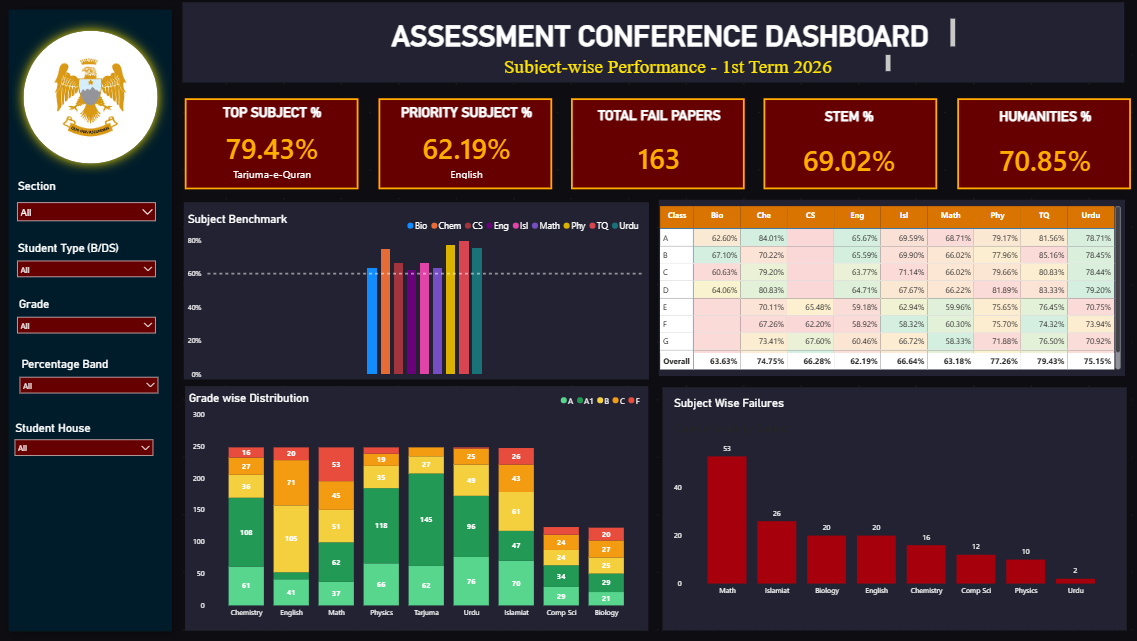

The dashboard page shown, as its layout file describes it:
{"tool":"powerbi","page":{"name":"Subject wise Performance","canvas":[1920,1080],"ordinal":2},"visuals":[{"type":"shape","box":[1103.8,642.5,792.5,423.8],"z":0},{"type":"shape","box":[637.7,168.5,290,152],"z":1000},{"type":"shape","box":[959.8,169.5,290,152],"z":2000},{"type":"shape","box":[1281.9,168,290,152],"z":3000},{"type":"shape","box":[1604,169,290,152],"z":4000},{"type":"shape","box":[0,0,315,1080],"z":5000},{"type":"shape","box":[303.3,0,1590,151.7],"z":6000},{"type":"shape","box":[304.4,333.6,794.4,313.3],"z":7000},{"type":"shape","box":[26.9,37.7,261.5,259.2],"z":8000},{"type":"image","box":[82.5,91.7,149.2,150.8],"z":9000},{"type":"textbox","box":[620,31.2,986.2,60],"z":10000},{"type":"textbox","box":[754.2,91.7,745,41.7],"z":11000},{"type":"shape","box":[1098,330,796,312],"z":12000},{"type":"shape","box":[306.2,641.2,791.2,426.2],"z":13000},{"type":"shape","box":[315.6,170,290,152.2],"z":14000},{"type":"cardVisual","title":"TOP SUBJECT %","fields":{"Data":["Measures Table.Top Subject Average"]},"box":[316,180,292,142],"z":15000},{"type":"cardVisual","title":"PRIORITY SUBJECT %","fields":{"Data":["Measures Table.Priority Subject Average"]},"box":[638,180,294,142],"z":16000},{"type":"cardVisual","title":"TOTAL FAIL PAPERS","fields":{"Data":["Measures Table.Total Failed Papers"]},"box":[964,184,286,142],"z":17000},{"type":"cardVisual","title":"STEM %","fields":{"Data":["Measures Table.STEM Average"]},"box":[1282,186,286,142],"z":18000},{"type":"cardVisual","title":"HUMANITIES %","fields":{"Data":["Measures Table.Humanities Average"]},"box":[1608,186,286,142],"z":19000},{"type":"clusteredColumnChart","fields":{"Y":["Measures Table.B Avg","Measures Table.C Avg","Measures Table.CS Avg","Measures Table.E Avg","Measures Table.Isl Avg","Measures Table.M Avg","Measures Table.Phy Avg","Measures Table.TQ Avg","Measures Table.U Avg"]},"box":[316,360,768,282],"z":20000},{"type":"textbox","box":[316,354,356,40],"z":21000},{"type":"pivotTable","fields":{"Values":["Measures Table.B Avg","Measures Table.C Avg","Measures Table.CS Avg","Measures Table.E Avg","Measures Table.Isl Avg","Measures Table.M Avg","Measures Table.Phy Avg","Measures Table.TQ Avg","Measures Table.U Avg"],"Rows":["9th result.Cl"]},"box":[1105,343.8,778.8,282.5],"z":22000},{"type":"columnChart","fields":{"Category":["Subject Grades Summary.Subject"],"Y":["CountNonNull(Subject Grades Summary.Grade)"],"Series":["Subject Grades Summary.Grade"]},"box":[322.5,653.8,761.2,392.5],"z":23000},{"type":"textbox","box":[316.2,653.8,356.2,40],"z":24000},{"type":"clusteredColumnChart","fields":{"Category":["Subject Grades Summary.Subject"],"Y":["CountNonNull(Subject Grades Summary.Grade)"]},"box":[1126.7,710,747.8,300],"z":25000},{"type":"textbox","box":[1126.2,661.2,356.2,40],"z":26000},{"type":"slicer","fields":{"Values":["9th result.Name"]},"box":[24.3,326.7,251.2,68.8],"z":27000},{"type":"textbox","box":[32,300.3,192.5,31.2],"z":28000},{"type":"slicer","fields":{"Values":["9th result.B/DS"]},"box":[24.3,429.6,251.2,55],"z":29000},{"type":"textbox","box":[32.3,403.1,192.5,31.2],"z":30000},{"type":"group","id":"g1","title":"Group 3","box":[25.7,496.3,251.2,81.5],"z":31000},{"type":"slicer","fields":{"Values":["9th result.Clean House"]},"box":[20,729.2,251.2,55],"z":32000},{"type":"slicer","fields":{"Values":["9th result.Grd"]},"box":[25.7,522.8,251.2,55],"z":33000,"group":"g1"},{"type":"textbox","box":[28,702.7,192.5,31.2],"z":33000},{"type":"textbox","box":[33.7,496.3,192.5,31.2],"z":34000,"group":"g1"},{"type":"group","id":"g2","title":"Group 4","box":[28.6,596.7,251.3,81.5],"z":34000},{"type":"slicer","fields":{"Values":["9th result.Percentage Band"]},"box":[28.6,623.2,251.2,55],"z":35000,"group":"g2"},{"type":"textbox","box":[36.6,596.7,192.5,31.2],"z":36000,"group":"g2"}]}

Visuals, with their boxes in screenshot pixels (x1, y1, x2, y2), scaled from the page's 1920x1080 canvas onto the 1137x641 screenshot:
shape: [left=654, top=381, right=1123, bottom=633]
shape: [left=378, top=100, right=549, bottom=190]
shape: [left=568, top=101, right=740, bottom=191]
shape: [left=759, top=100, right=931, bottom=190]
shape: [left=950, top=100, right=1122, bottom=191]
shape: [left=0, top=0, right=187, bottom=640]
shape: [left=180, top=0, right=1121, bottom=90]
shape: [left=180, top=198, right=651, bottom=384]
shape: [left=16, top=22, right=171, bottom=176]
image: [left=49, top=54, right=137, bottom=144]
textbox: [left=367, top=19, right=951, bottom=54]
textbox: [left=447, top=54, right=888, bottom=79]
shape: [left=650, top=196, right=1122, bottom=381]
shape: [left=181, top=381, right=650, bottom=634]
shape: [left=187, top=101, right=359, bottom=191]
"TOP SUBJECT %" cardVisual: [left=187, top=107, right=360, bottom=191]
"PRIORITY SUBJECT %" cardVisual: [left=378, top=107, right=552, bottom=191]
"TOTAL FAIL PAPERS" cardVisual: [left=571, top=109, right=740, bottom=193]
"STEM %" cardVisual: [left=759, top=110, right=929, bottom=195]
"HUMANITIES %" cardVisual: [left=952, top=110, right=1122, bottom=195]
clusteredColumnChart - Measures Table.B Avg x Measures Table.C Avg: [left=187, top=214, right=642, bottom=381]
textbox: [left=187, top=210, right=398, bottom=234]
pivotTable - Measures Table.B Avg x Measures Table.C Avg: [left=654, top=204, right=1116, bottom=372]
columnChart - Subject Grades Summary.Subject x CountNonNull(Subject Grades Summary.Grade): [left=191, top=388, right=642, bottom=621]
textbox: [left=187, top=388, right=398, bottom=412]
clusteredColumnChart - Subject Grades Summary.Subject x CountNonNull(Subject Grades Summary.Grade): [left=667, top=421, right=1110, bottom=599]
textbox: [left=667, top=392, right=878, bottom=416]
slicer - 9th result.Name: [left=14, top=194, right=163, bottom=235]
textbox: [left=19, top=178, right=133, bottom=197]
slicer - 9th result.B/DS: [left=14, top=255, right=163, bottom=288]
textbox: [left=19, top=239, right=133, bottom=258]
"Group 3" group: [left=15, top=295, right=164, bottom=343]
slicer - 9th result.Clean House: [left=12, top=433, right=161, bottom=465]
slicer - 9th result.Grd: [left=15, top=310, right=164, bottom=343]
textbox: [left=17, top=417, right=131, bottom=436]
textbox: [left=20, top=295, right=134, bottom=313]
"Group 4" group: [left=17, top=354, right=166, bottom=403]
slicer - 9th result.Percentage Band: [left=17, top=370, right=166, bottom=403]
textbox: [left=22, top=354, right=136, bottom=373]
